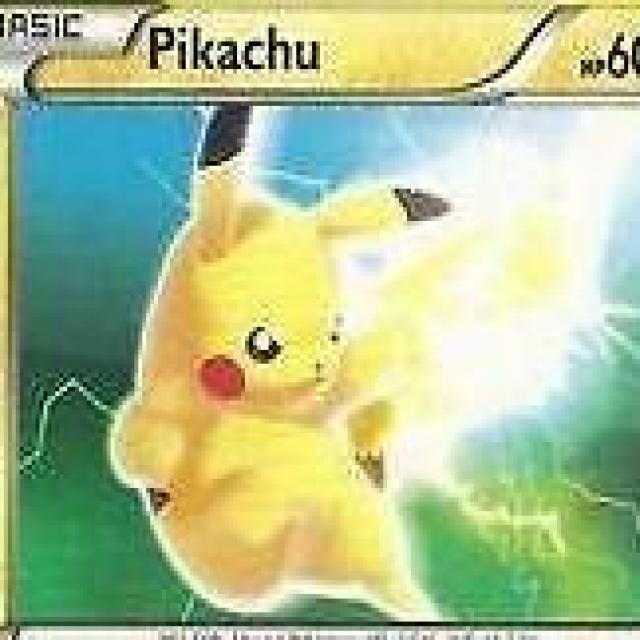pikachu: (109, 99, 466, 620)
